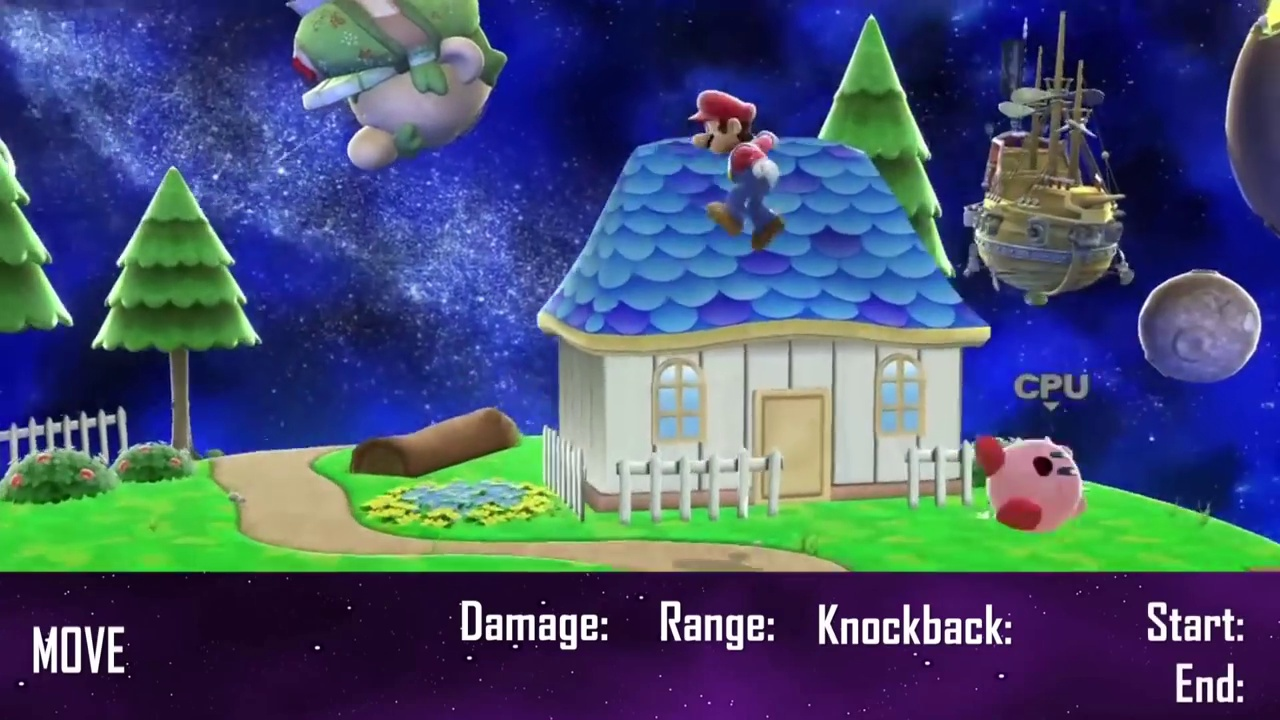Mario: (686, 89, 782, 246)
